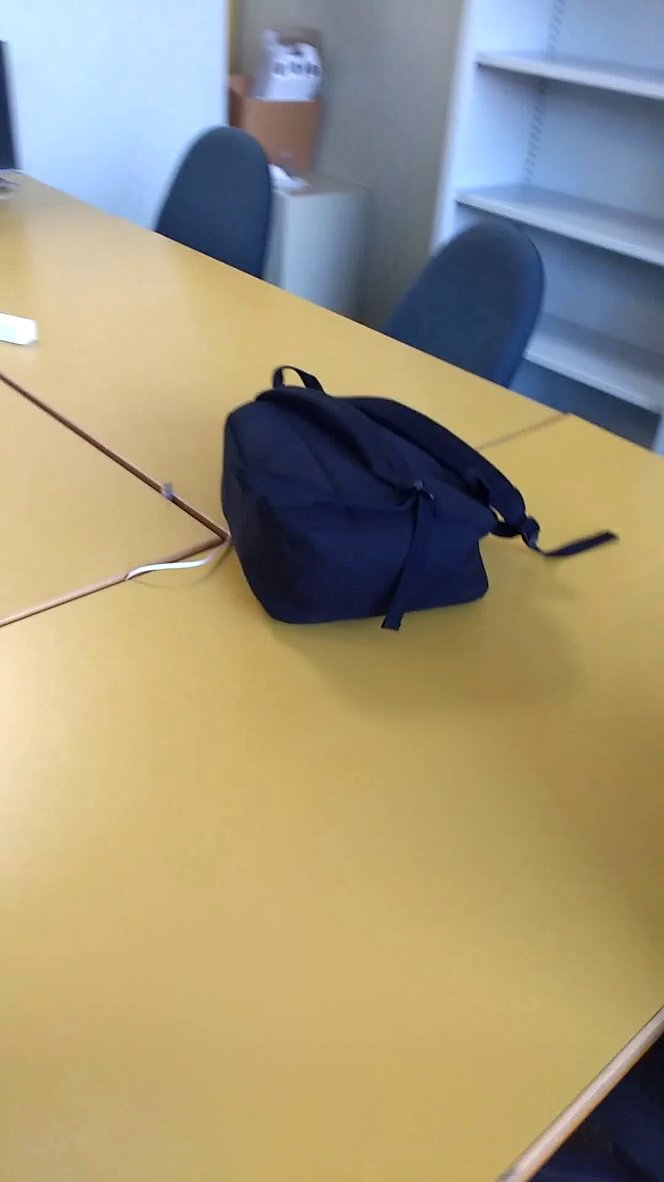bag: (203, 348, 634, 641)
chair: (376, 205, 553, 412), (142, 120, 285, 300)
